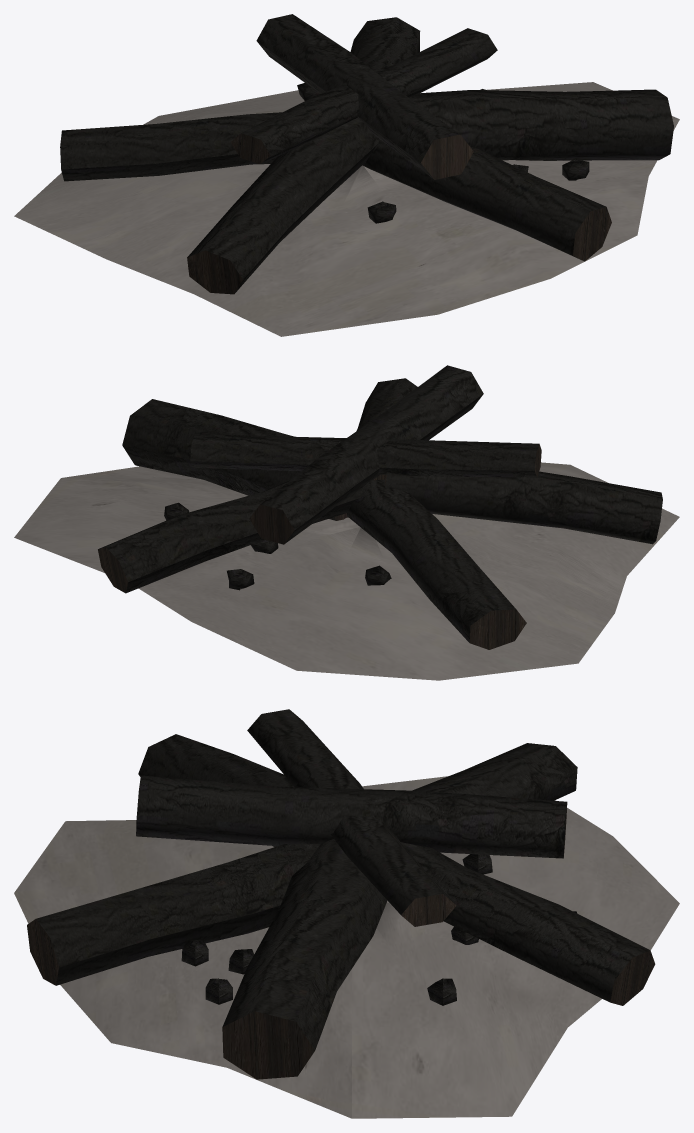
Rendered from kit_hearth_logs_p.glb.
The picture shows the model from 3 angles, top to bottom: view 1: azimuth 30°, elevation 25°; view 2: azimuth 150°, elevation 25°; view 3: azimuth 270°, elevation 25°; orthographic projection. The views are drawn at different scales.
Parts seen in each view (by area): view 1: kit_hearth_logs_p; view 2: kit_hearth_logs_p; view 3: kit_hearth_logs_p.
Boxes of the visible parts, x1,y1,x2,y2 form: kit_hearth_logs_p: [14, 14, 679, 336]; kit_hearth_logs_p: [14, 365, 679, 680]; kit_hearth_logs_p: [14, 709, 679, 1118].
Bounding box in the file's own units: 1.38 × 0.2947 × 1.12.
1 material, 1 textured.
